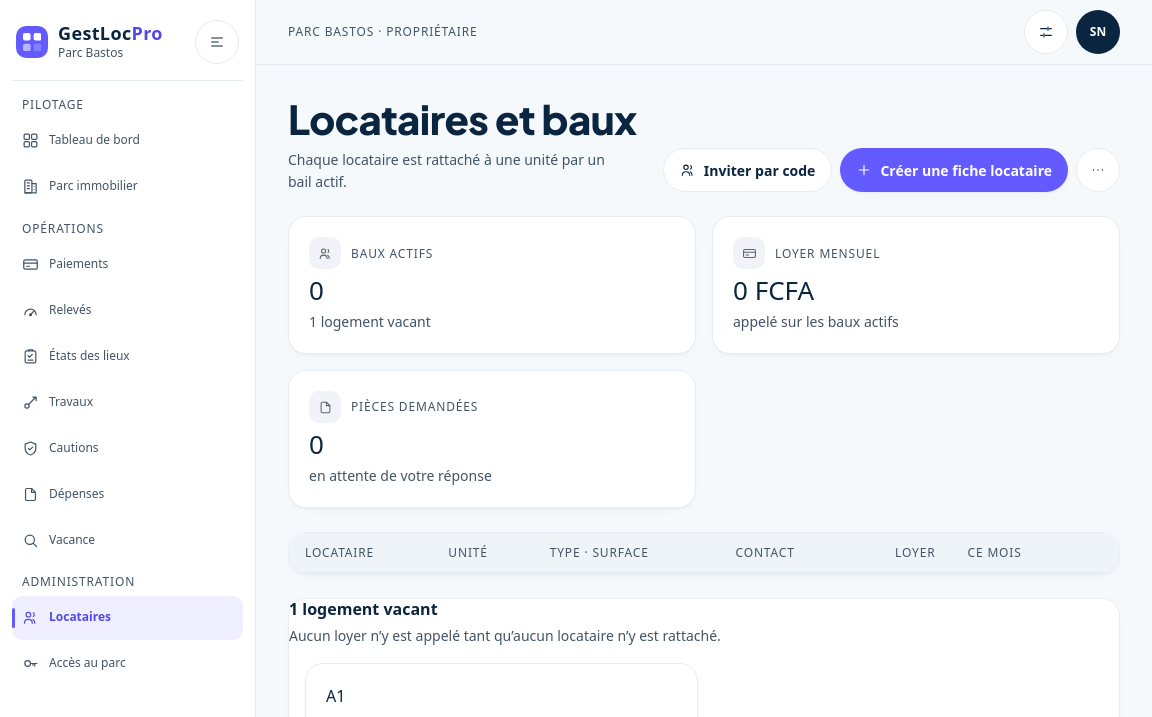
Scenario: créer une fiche pour un compte déjà membre › retire le champ quand personne n’est à relier
Click the button "Créer une fiche locataire". click: (954, 170)
box: 840,148 -> 1068,192
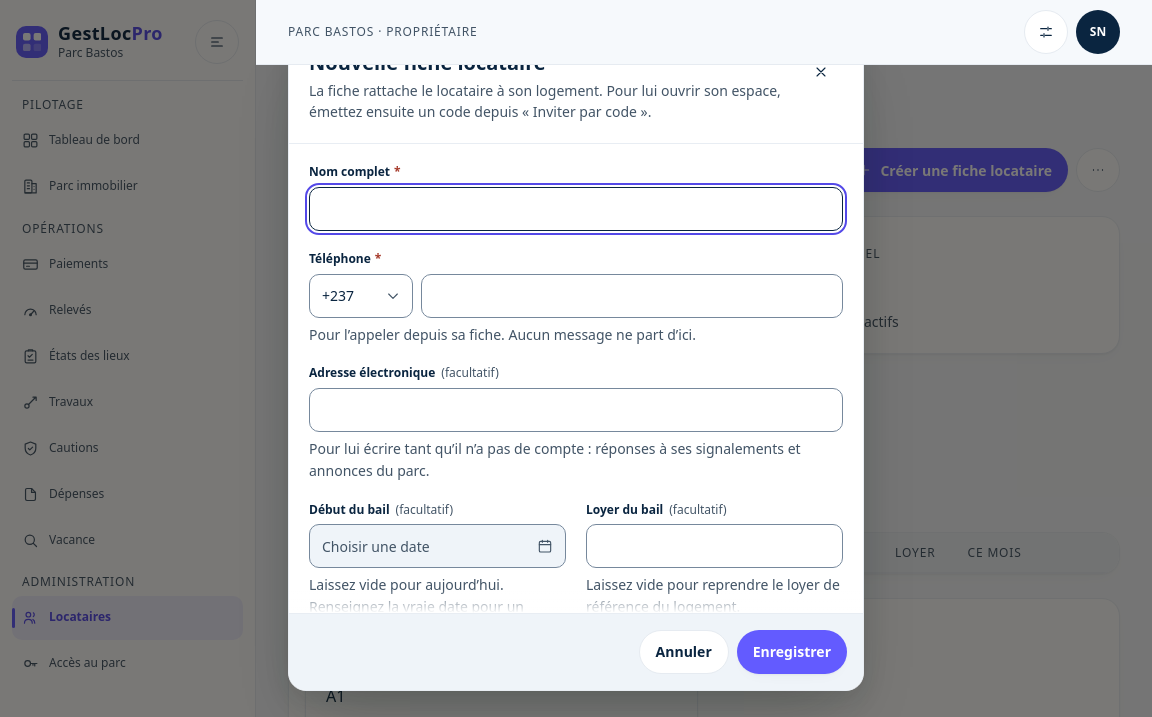
Expected: the dialog is shown, 288,29 -> 864,691
